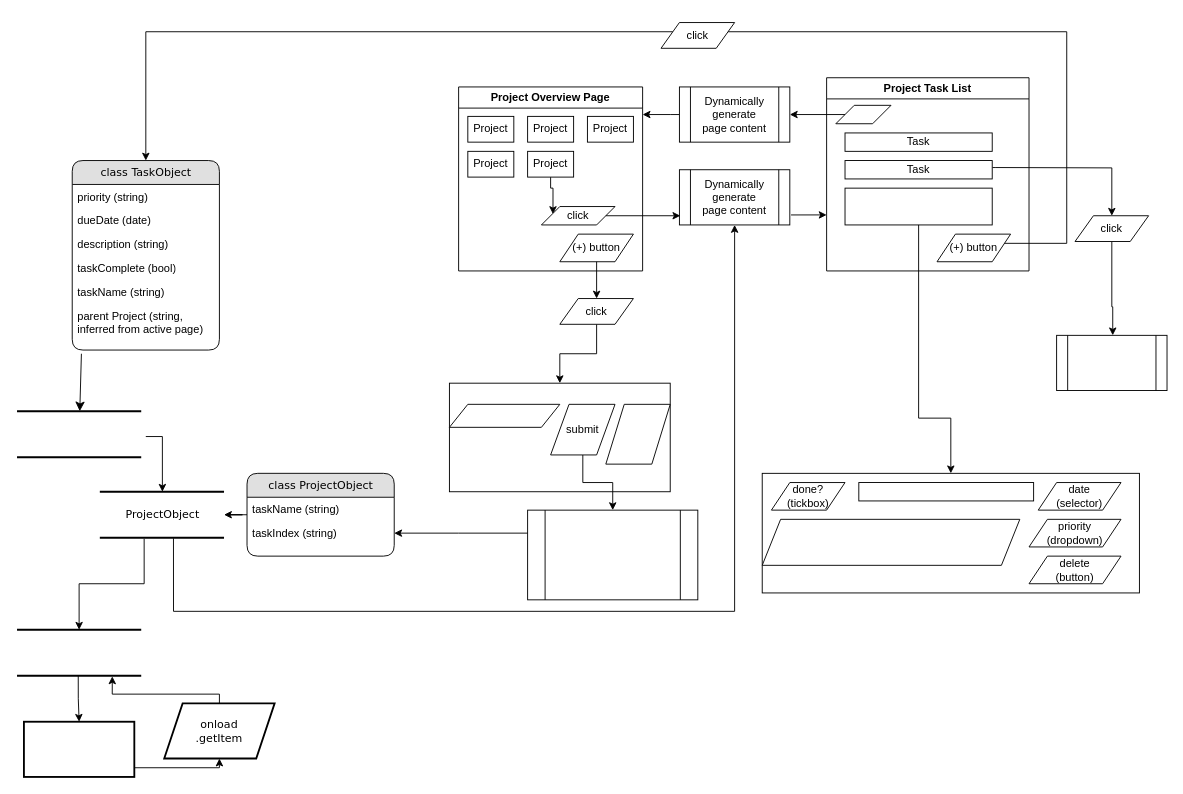
Image size: 1183x794. Some labels were removed from this diagram. Each missing label, with the centre of its shape:
"Array of ProjectObjects" belongs at point 79,652.
"back" belongs at point 863,114.
"cancel (close modal)" belongs at point 637,433.
"expand task" belongs at point 1111,362.
"Expanded Task" belongs at point 918,206.
"if textBox matches a project, error. Else, create project object." belongs at point 612,554.
"localStorage .setItem JSON.stringify" belongs at point 79,748.
"notes" belongs at point 890,541.
"Task Name" belongs at point 946,491.
"TaskObject" belongs at point 79,434.
"textBox" belongs at point 504,415.
